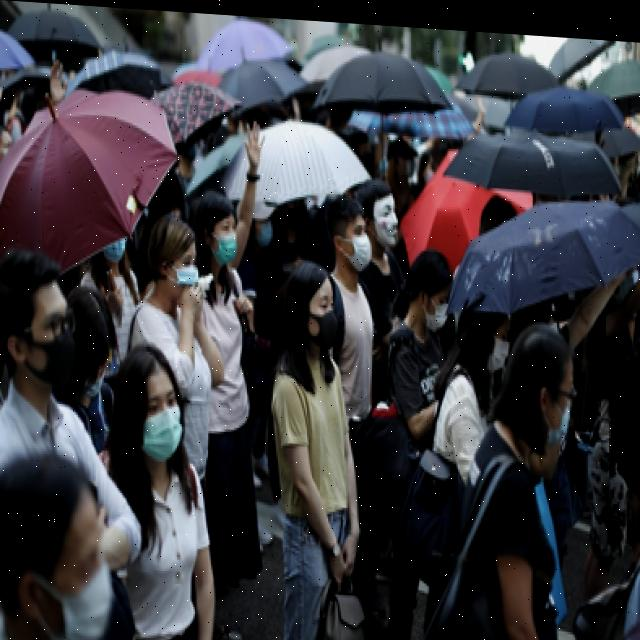Mask: (16, 566, 114, 640), (7, 334, 78, 385), (136, 400, 183, 457), (536, 377, 572, 436), (473, 320, 509, 366), (162, 258, 198, 298), (340, 225, 371, 267), (307, 303, 338, 341), (420, 286, 449, 325), (206, 227, 237, 258)
